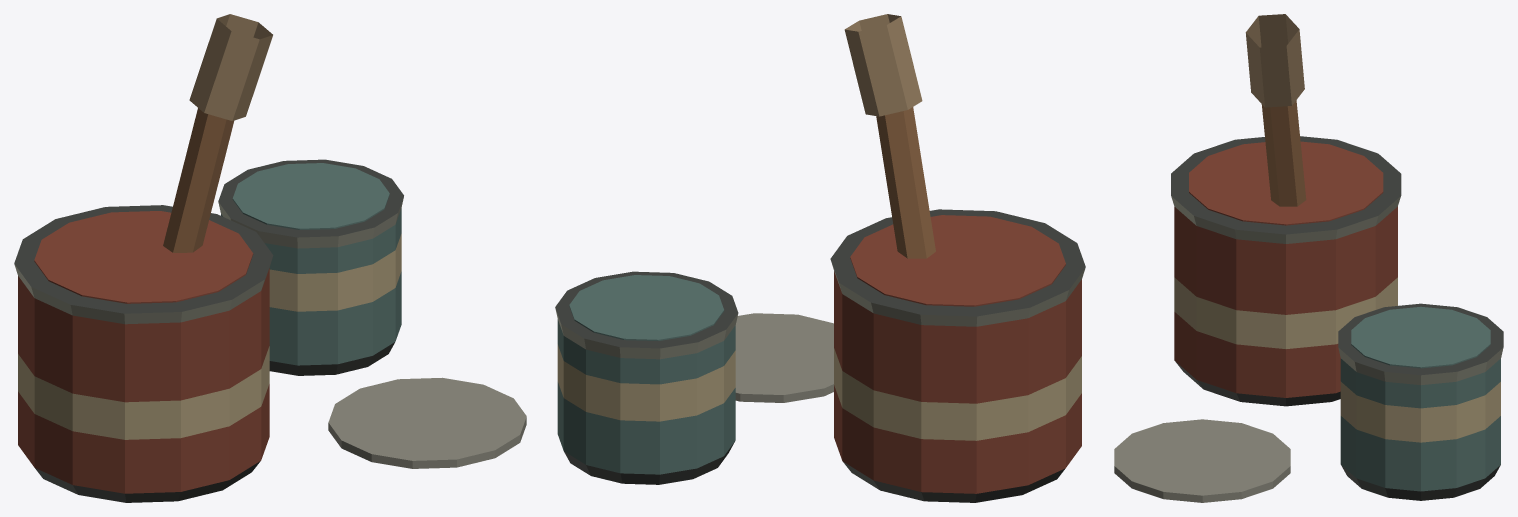
Rendered from paint_repair.glb.
3 views of the same model, side by side, from view 1: azimuth 30°, elevation 25°; view 2: azimuth 150°, elevation 25°; view 3: azimuth 270°, elevation 25° (orthographic). The views are drawn at different scales.
Parts seen in each view (by area): view 1: paint_repair; view 2: paint_repair; view 3: paint_repair.
Boxes of the visible parts, bbox=[...] form: paint_repair: bbox=[14, 14, 526, 502]; paint_repair: bbox=[555, 14, 1085, 502]; paint_repair: bbox=[1114, 14, 1503, 502].
Bounding box in the file's own units: 0.3396 × 0.3111 × 0.2886.
